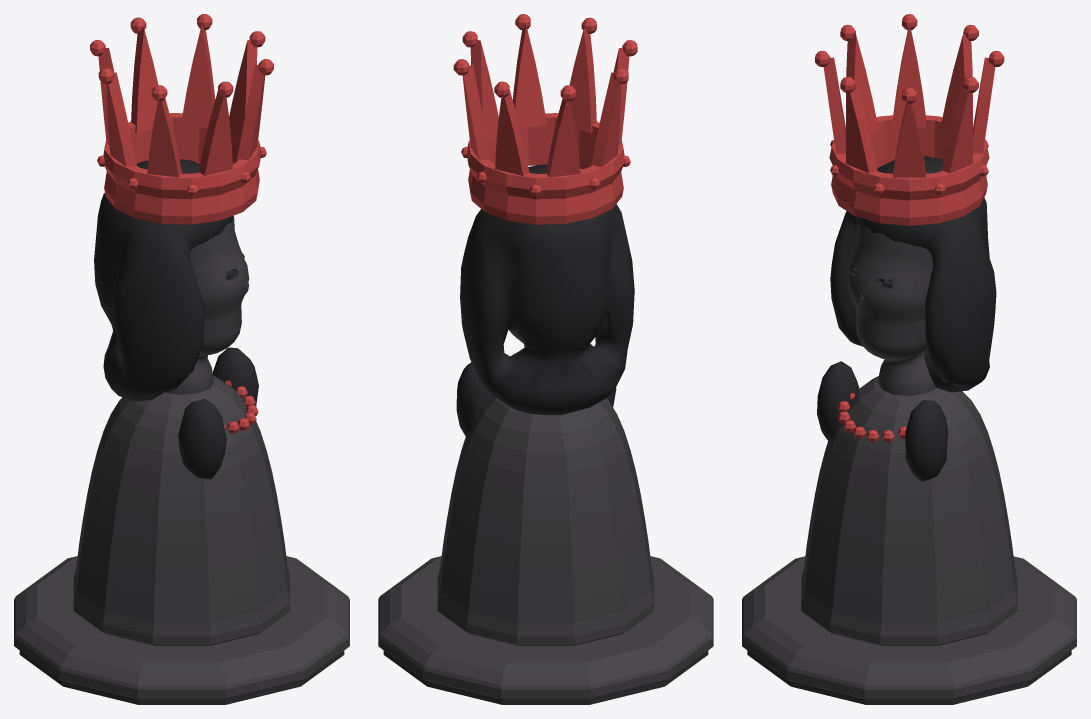
File: queen_black.glb
The picture shows the model from 3 angles, left to right: view 1: azimuth 30°, elevation 25°; view 2: azimuth 150°, elevation 25°; view 3: azimuth 270°, elevation 25°; orthographic projection.
Parts seen in each view (by area): view 1: Queen_Black; view 2: Queen_Black; view 3: Queen_Black.
Part boxes in pixels (bbox=[...]): Queen_Black: bbox=[14, 14, 349, 704]; Queen_Black: bbox=[378, 14, 713, 704]; Queen_Black: bbox=[742, 14, 1076, 704].
Size of the model in its own units: 1.2 by 2.31 by 1.2.
